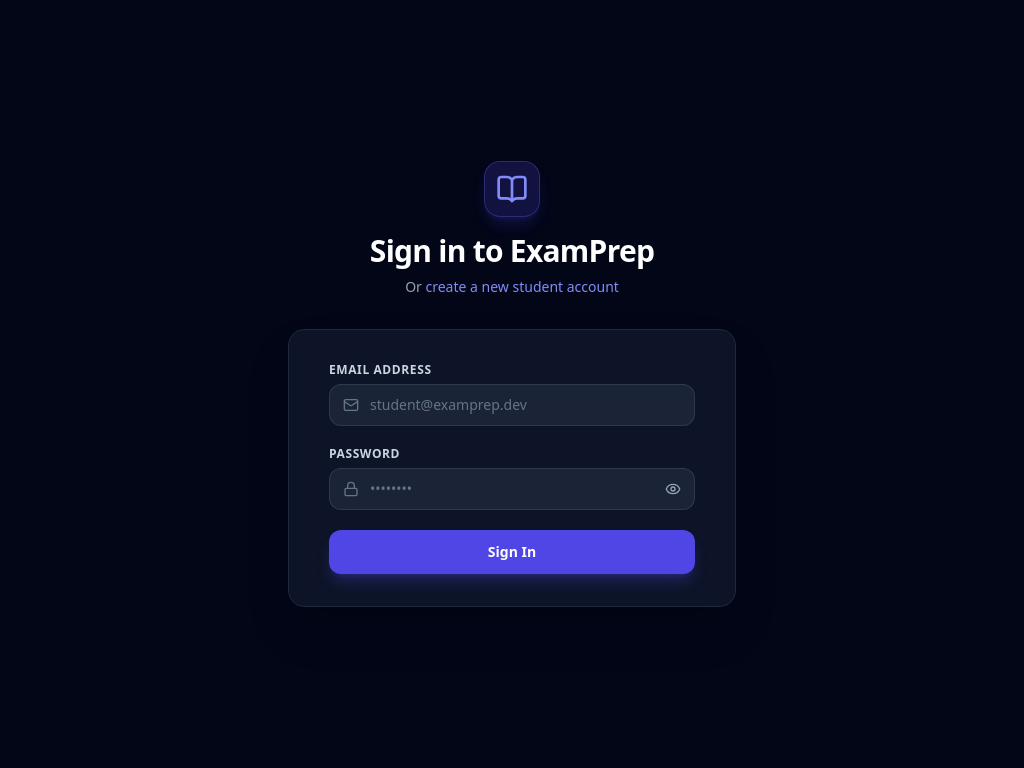
Authentication & Route Guard Tests › successful login updates context and redirects to dashboard
The image size is (1024, 768).
Type "john@examprep.dev" into the field with placeholder "student@examprep.dev" at (512, 405), box [329,384,695,426]
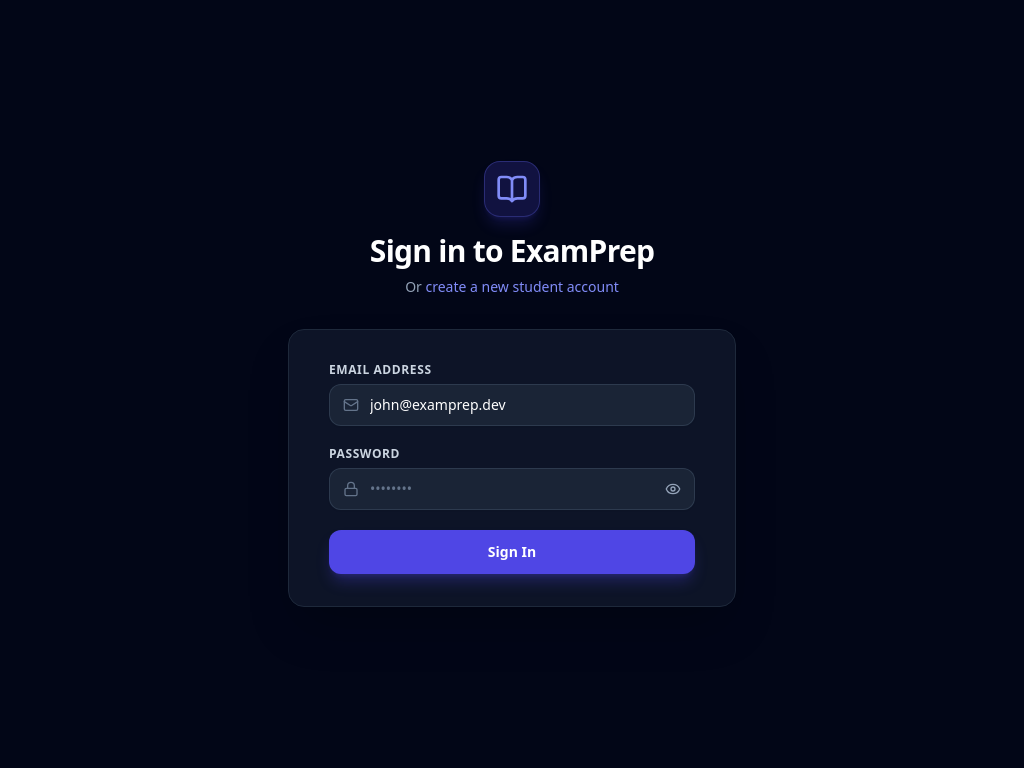
Type "Password123" into the password field with placeholder "••••••••" at (512, 489), box [329,468,695,510]
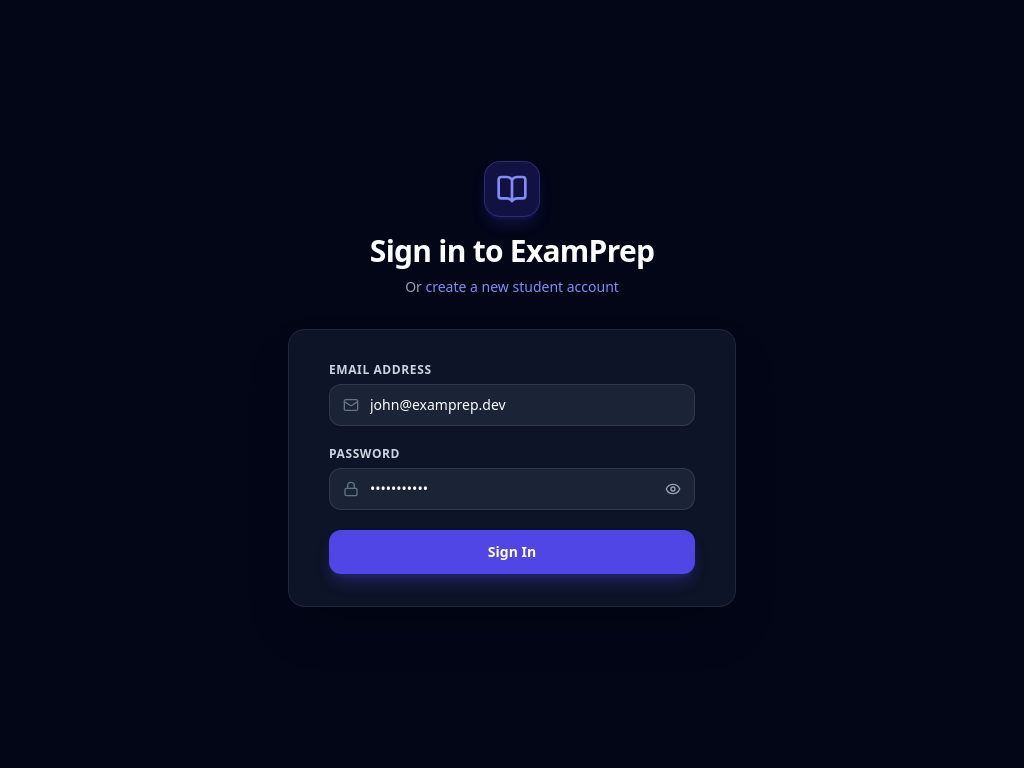
Click the button "Sign In" at (512, 552), box [329,530,695,574]
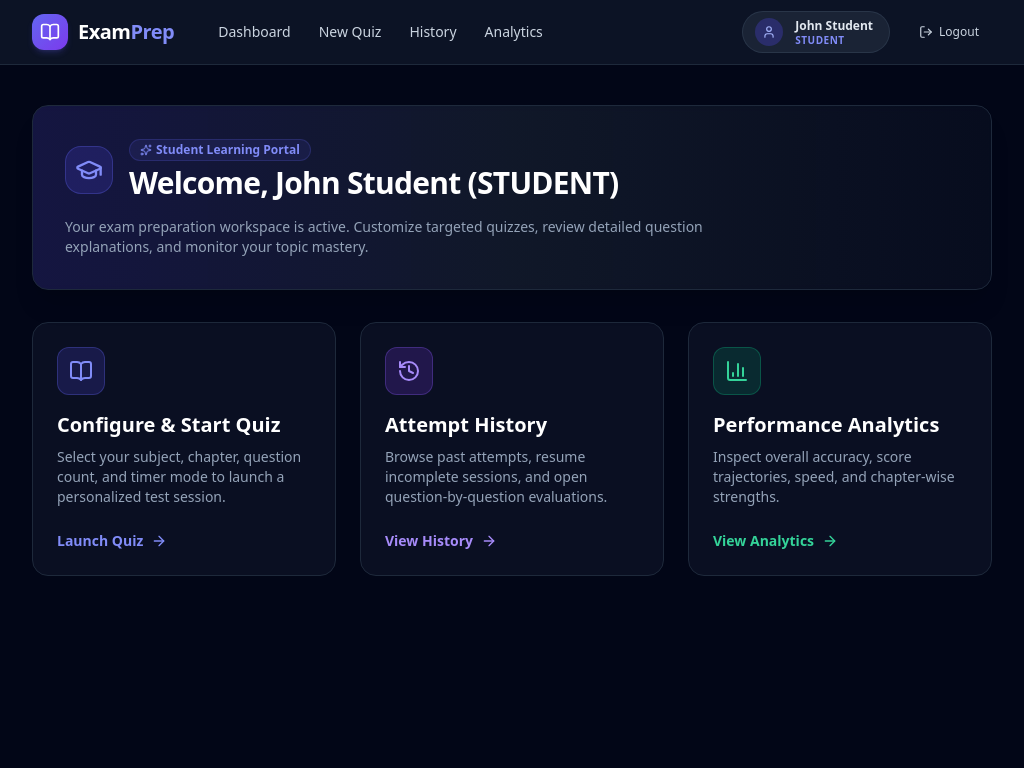
Now the heading "Welcome, John Student (STUDENT)" is shown, box [129,165,618,201]
